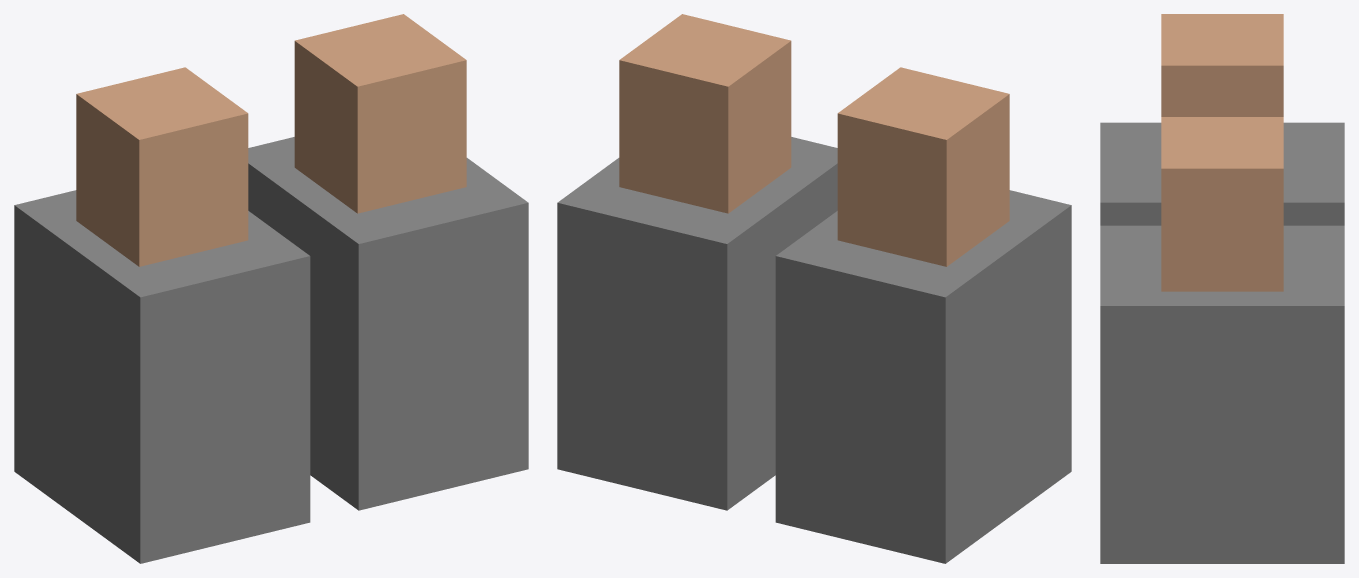
The model's file is swinging_ship_rider.obj.
3 views of the same model, side by side, from view 1: azimuth 30°, elevation 25°; view 2: azimuth 150°, elevation 25°; view 3: azimuth 270°, elevation 25° (orthographic). The views are drawn at different scales.
Size of the model in its own units: 0.64 by 0.62 by 0.36.
